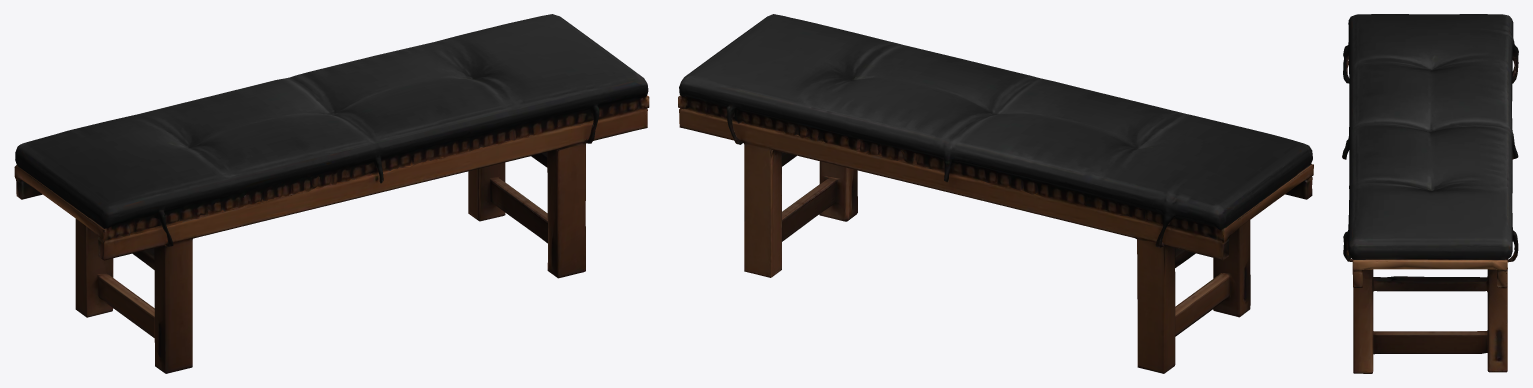
The picture shows the model from 3 angles, left to right: view 1: azimuth 30°, elevation 25°; view 2: azimuth 150°, elevation 25°; view 3: azimuth 270°, elevation 25°; orthographic projection. The views are drawn at different scales.
Parts seen in each view (by area): view 1: geometry_0; view 2: geometry_0; view 3: geometry_0.
Boxes of the visible parts, left/top/right/bottom form: geometry_0: left=14, top=14, right=649, bottom=373; geometry_0: left=678, top=14, right=1313, bottom=373; geometry_0: left=1342, top=14, right=1518, bottom=373.
Size of the model in its own units: 0.9989 by 0.3316 by 0.321.
Materials: 1 (1 with a texture image).
